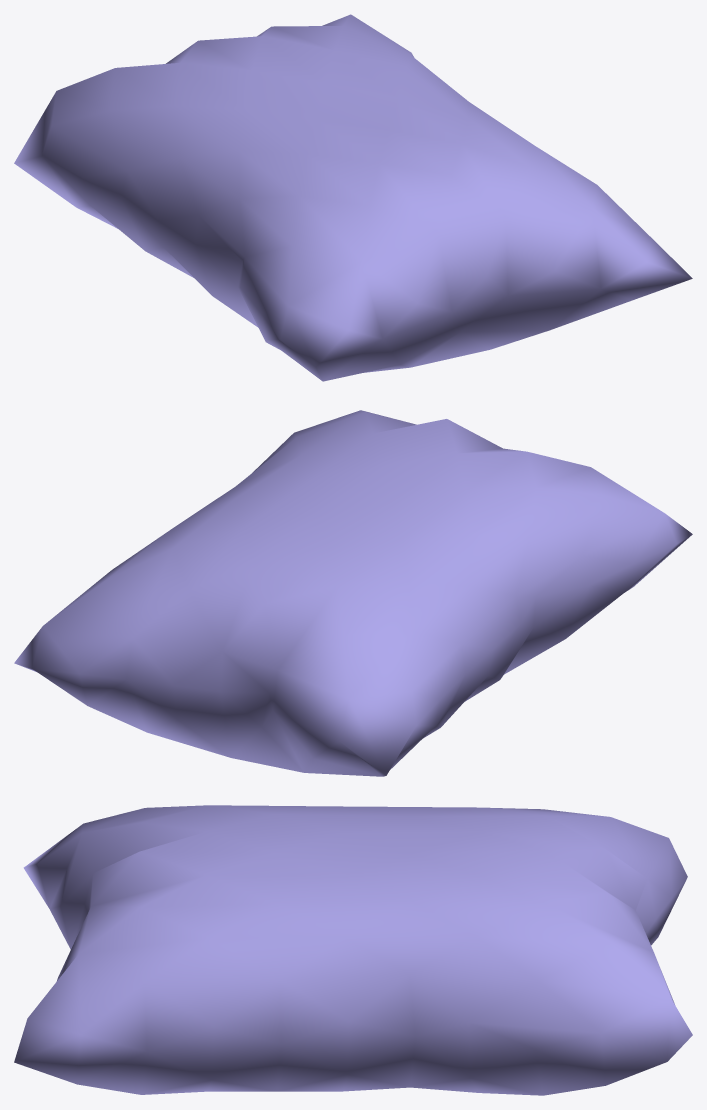
The model's file is Pillow.fbx.
3 renders of one model, top to bottom at view 1: azimuth 30°, elevation 25°; view 2: azimuth 150°, elevation 25°; view 3: azimuth 270°, elevation 25°, orthographic. The views are drawn at different scales.
Visible parts, largest first — view 1: Pillow; view 2: Pillow; view 3: Pillow.
Part boxes in pixels (box(x1,y1,x2,y2)): Pillow: box(14, 14, 692, 381); Pillow: box(14, 410, 692, 776); Pillow: box(14, 805, 692, 1095).
Bounding box in the file's own units: 49.16 × 23.59 × 70.19.
